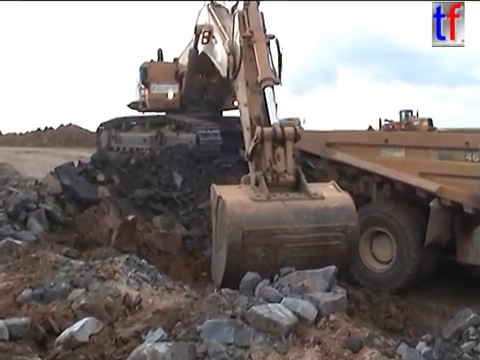excavator: (91, 1, 364, 301)
truck: (287, 127, 480, 299)
wheel loader: (363, 107, 438, 141)
